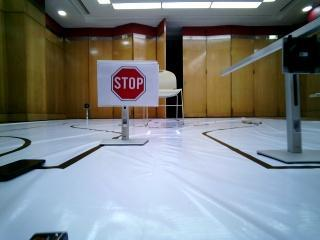stop: (97, 62, 160, 104)
